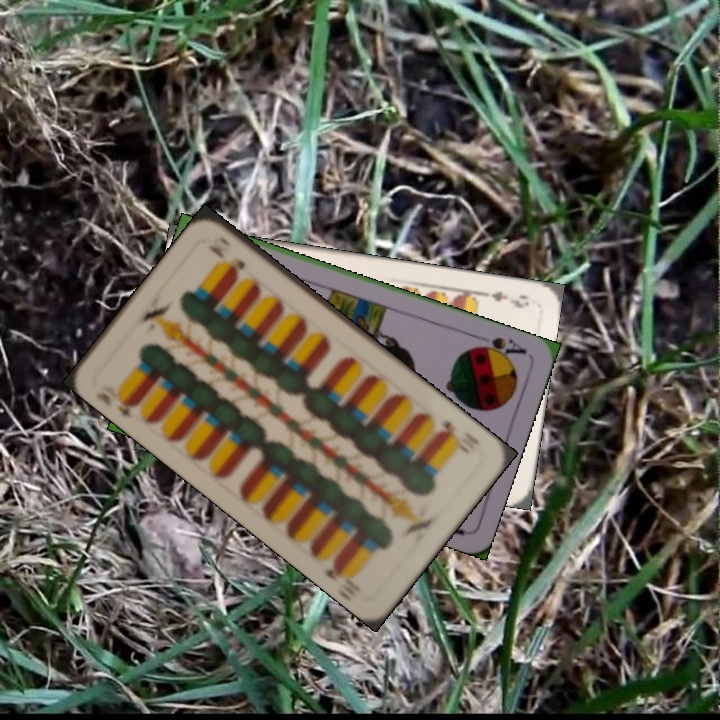E10: (91, 387, 142, 421), (435, 415, 478, 453)
E9: (477, 287, 531, 311)
SA: (469, 331, 529, 363)
